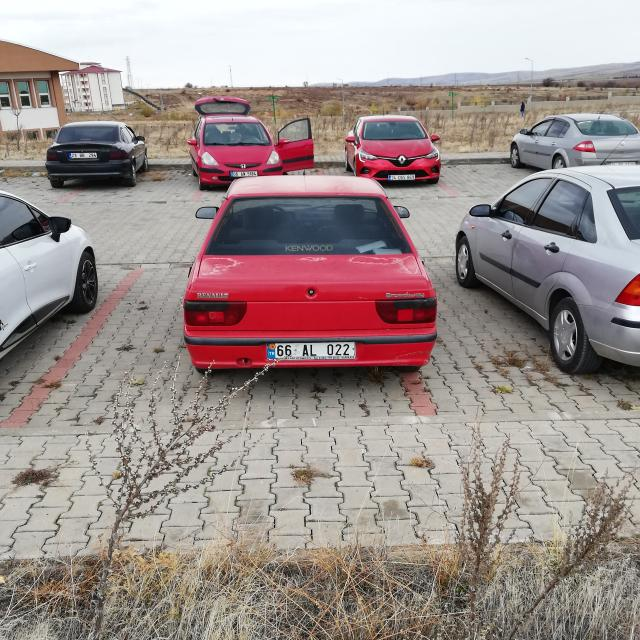license_plate: (267, 343, 355, 357), (388, 174, 416, 180), (68, 153, 96, 159), (230, 171, 257, 177)
